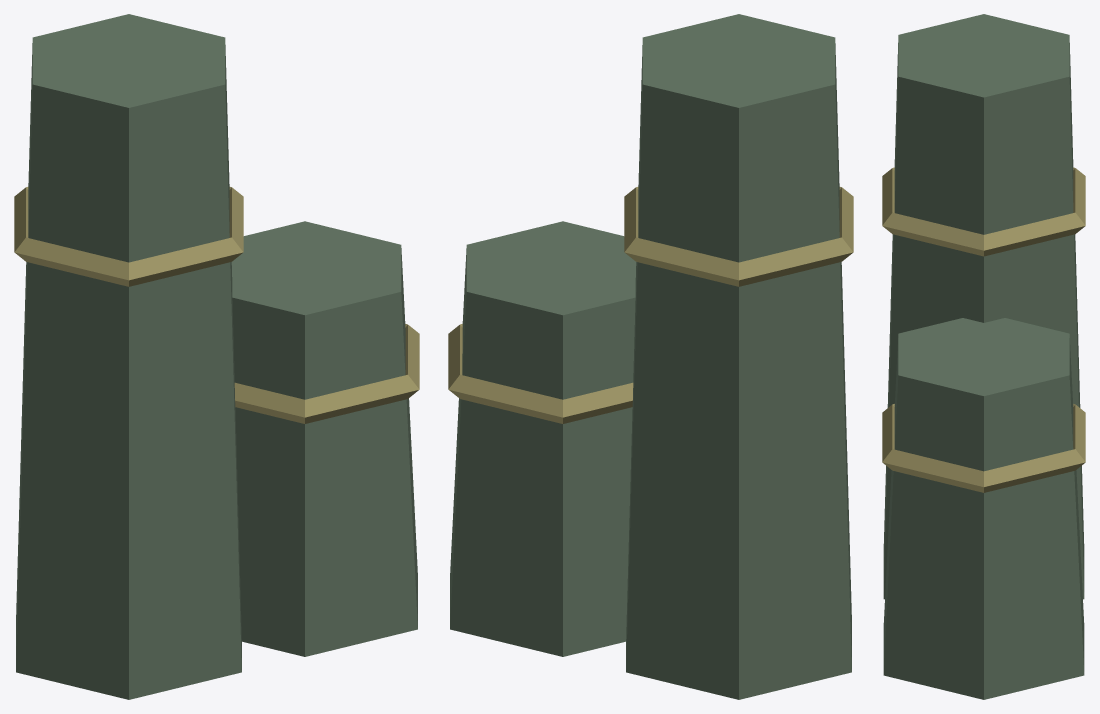
The model's file is map-boundaries-v5__ruins_09.glb.
The picture shows the model from 3 angles, left to right: view 1: azimuth 30°, elevation 25°; view 2: azimuth 150°, elevation 25°; view 3: azimuth 270°, elevation 25°; orthographic projection. The views are drawn at different scales.
Parts seen in each view (by area): view 1: ruins_09; view 2: ruins_09; view 3: ruins_09.
Boxes of the visible parts, box(x1,y1,x2,y2) form: ruins_09: box(14, 14, 419, 699); ruins_09: box(448, 14, 853, 699); ruins_09: box(882, 14, 1085, 699).
Bounding box in the file's own units: 1.22 × 1.68 × 0.5975.
